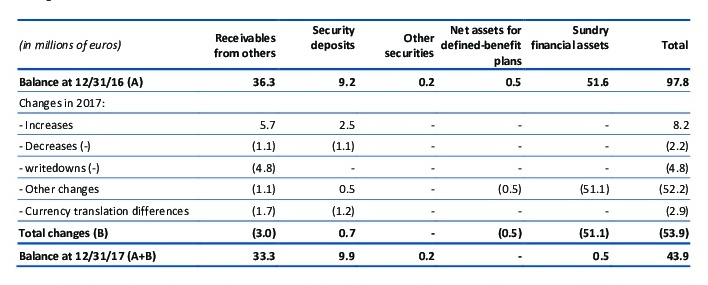table: (0, 0, 708, 285)
